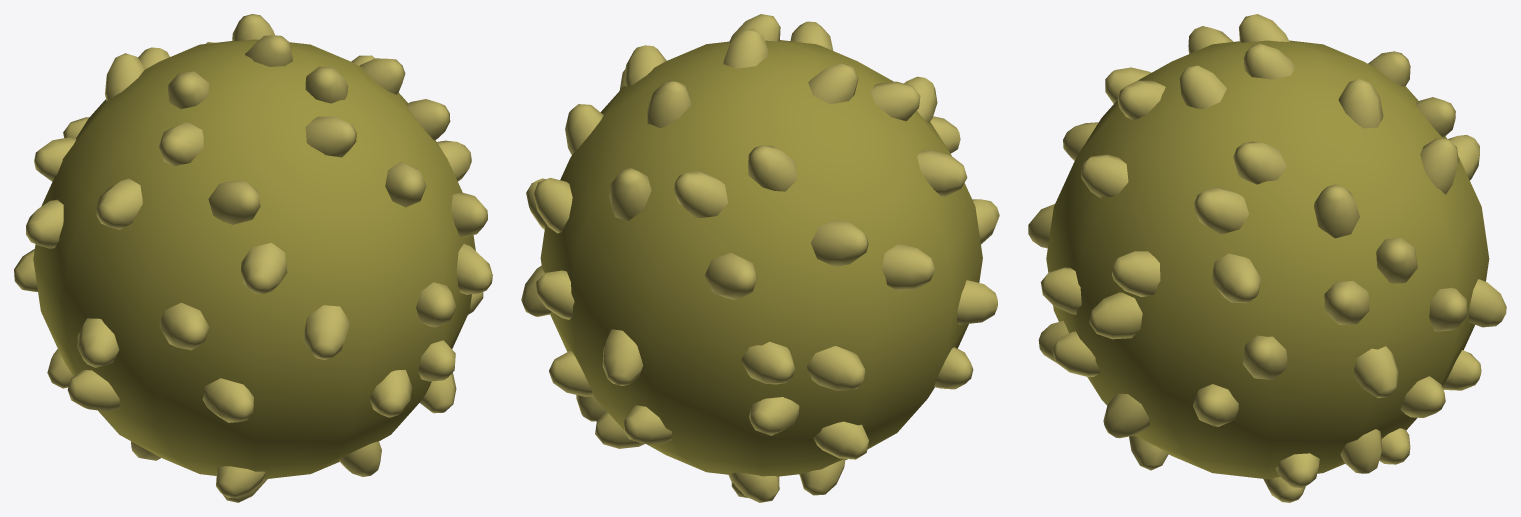
Rendered from SM_CornSpice.fbx.
3 views of the same model, side by side, from view 1: azimuth 30°, elevation 25°; view 2: azimuth 150°, elevation 25°; view 3: azimuth 270°, elevation 25° (orthographic).
Parts seen in each view (by area): view 1: CornSpice; view 2: CornSpice; view 3: CornSpice.
Boxes of the visible parts, x1=… form: CornSpice: x1=14, y1=14, x2=492, y2=502; CornSpice: x1=521, y1=14, x2=999, y2=502; CornSpice: x1=1028, y1=14, x2=1506, y2=502.
Bounding box in the file's own units: 1444 × 1450 × 1438.
